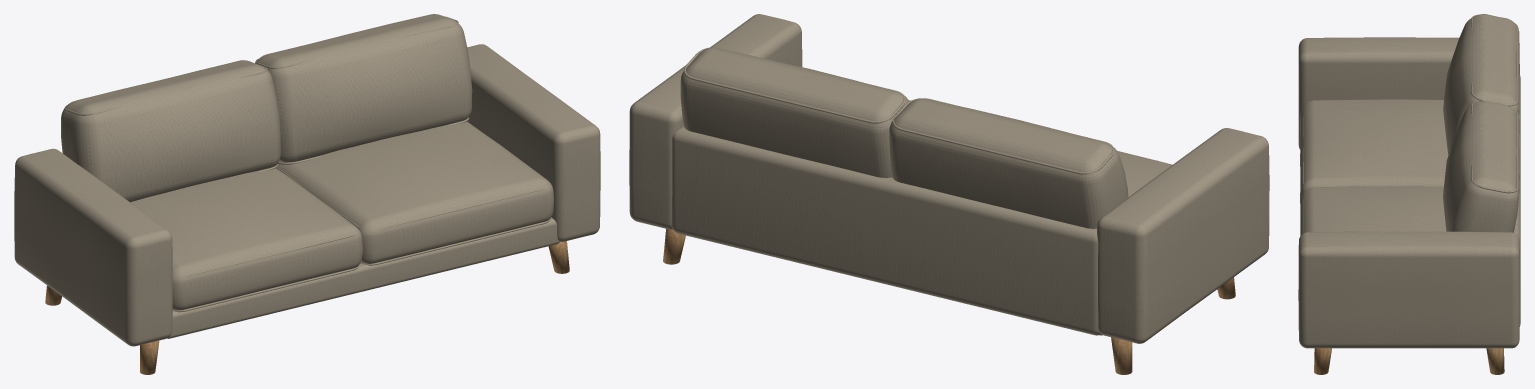
The model's file is plain-block-sofa.glb.
3 views of the same model, side by side, from view 1: azimuth 30°, elevation 25°; view 2: azimuth 150°, elevation 25°; view 3: azimuth 270°, elevation 25° (orthographic). The views are drawn at different scales.
Visible parts, largest first — view 1: seat1, backc0, backc1, armL, seat0, armR, base, leg0, leg1, seatpipe00, seatpipe11, seatpipe10; view 2: backframe, armL, backc0, backc1, armR, seat0, backpipe11, backpipe01, leg2, leg3; view 3: armR, seat0, armL, backc1, seat1, backc0, backframe, leg3, leg1, backpipe11, backpipe01.
Part boxes in pixels (left/top/right/bottom): seat1: left=277, top=121, right=553, bottom=263; backc0: left=61, top=60, right=280, bottom=202; backc1: left=255, top=14, right=472, bottom=162; armL: left=14, top=148, right=172, bottom=346; seat0: left=130, top=168, right=362, bottom=310; armR: left=467, top=44, right=600, bottom=241; base: left=167, top=217, right=559, bottom=338; leg0: left=140, top=340, right=159, bottom=374; leg1: left=548, top=241, right=569, bottom=273; seatpipe00: left=172, top=265, right=359, bottom=312; seatpipe11: left=276, top=167, right=544, bottom=229; seatpipe10: left=360, top=218, right=550, bottom=265; backframe: left=672, top=126, right=1100, bottom=335; armL: left=1097, top=128, right=1269, bottom=343; backc0: left=889, top=98, right=1128, bottom=228; backc1: left=680, top=47, right=909, bottom=177; armR: left=629, top=14, right=802, bottom=229; seat0: left=1117, top=151, right=1172, bottom=196; backpipe11: left=683, top=47, right=905, bottom=123; backpipe01: left=892, top=98, right=1114, bottom=174; leg2: left=1111, top=337, right=1132, bottom=374; leg3: left=663, top=229, right=685, bottom=264; armR: left=1298, top=231, right=1519, bottom=348; seat0: left=1300, top=99, right=1448, bottom=203; armL: left=1298, top=37, right=1519, bottom=149; backc1: left=1443, top=101, right=1519, bottom=232; seat1: left=1300, top=186, right=1446, bottom=235; backc0: left=1443, top=14, right=1519, bottom=154; backframe: left=1514, top=74, right=1520, bottom=326; leg3: left=1486, top=348, right=1504, bottom=374; leg1: left=1314, top=348, right=1331, bottom=374; backpipe11: left=1471, top=101, right=1518, bottom=193; backpipe01: left=1471, top=14, right=1518, bottom=106.
Bounding box in the file's own units: 2.11 × 0.8308 × 0.9182.
Materials: 2 (2 with a texture image).
